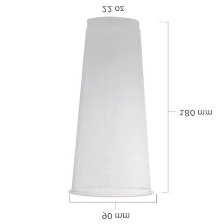glass: (67, 10, 162, 201)
